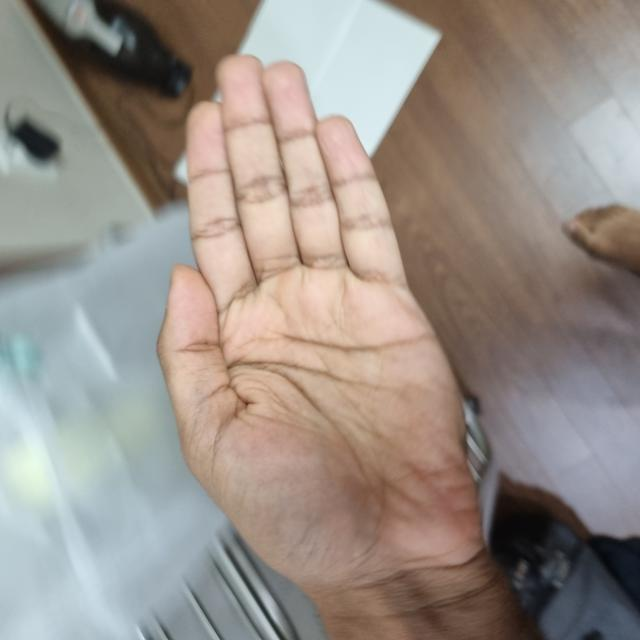Paper: (28, 162, 378, 480)
